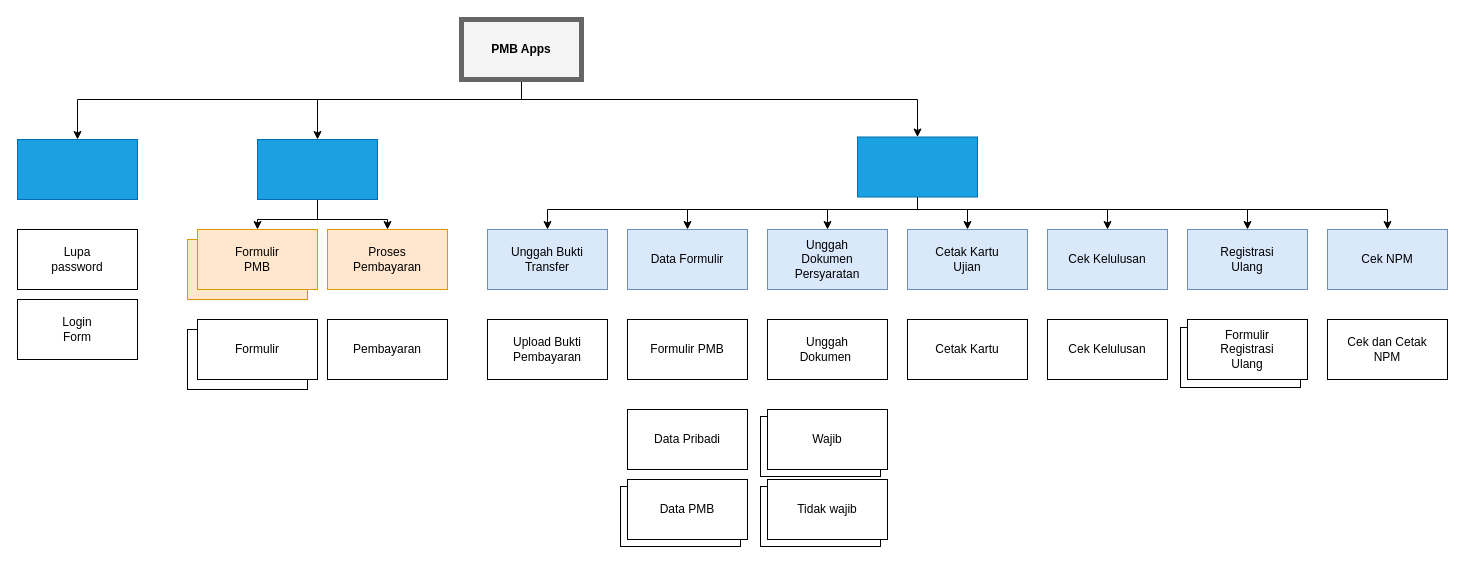
The diagram is 1465 pixels wide and 564 high, and some of its shapes have lost their labels. Here are the shapes that lost their labels. From the top down, the box of each, then its label:
(16, 138, 138, 200): Login
(256, 138, 378, 200): Registrasi
(856, 136, 978, 197): Dashboard
